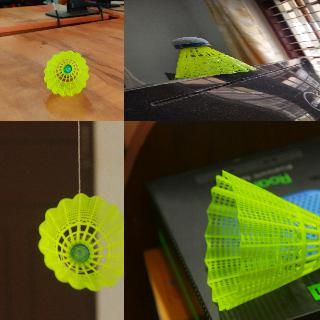shuttlecock: (204, 169, 319, 311), (37, 192, 123, 292), (172, 37, 257, 78), (43, 49, 89, 96)
